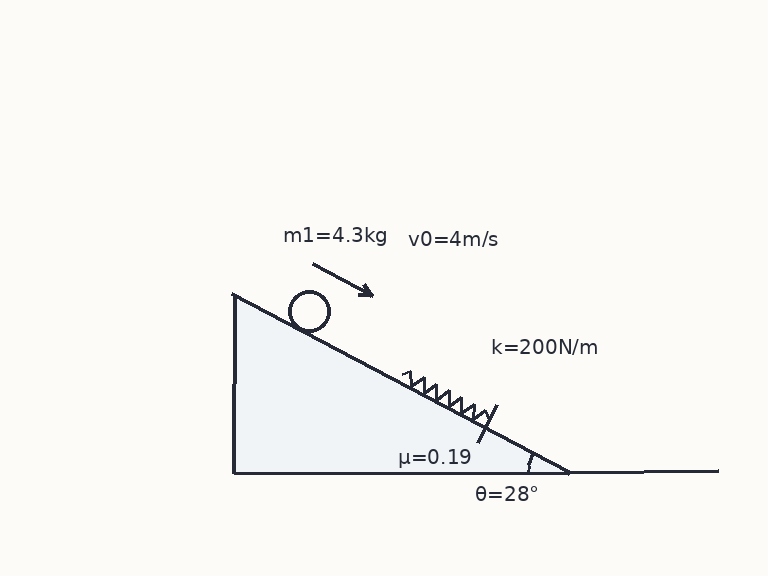ball: (286, 288, 332, 334)
ramp: (232, 293, 570, 474)
spring: (400, 369, 491, 422)
